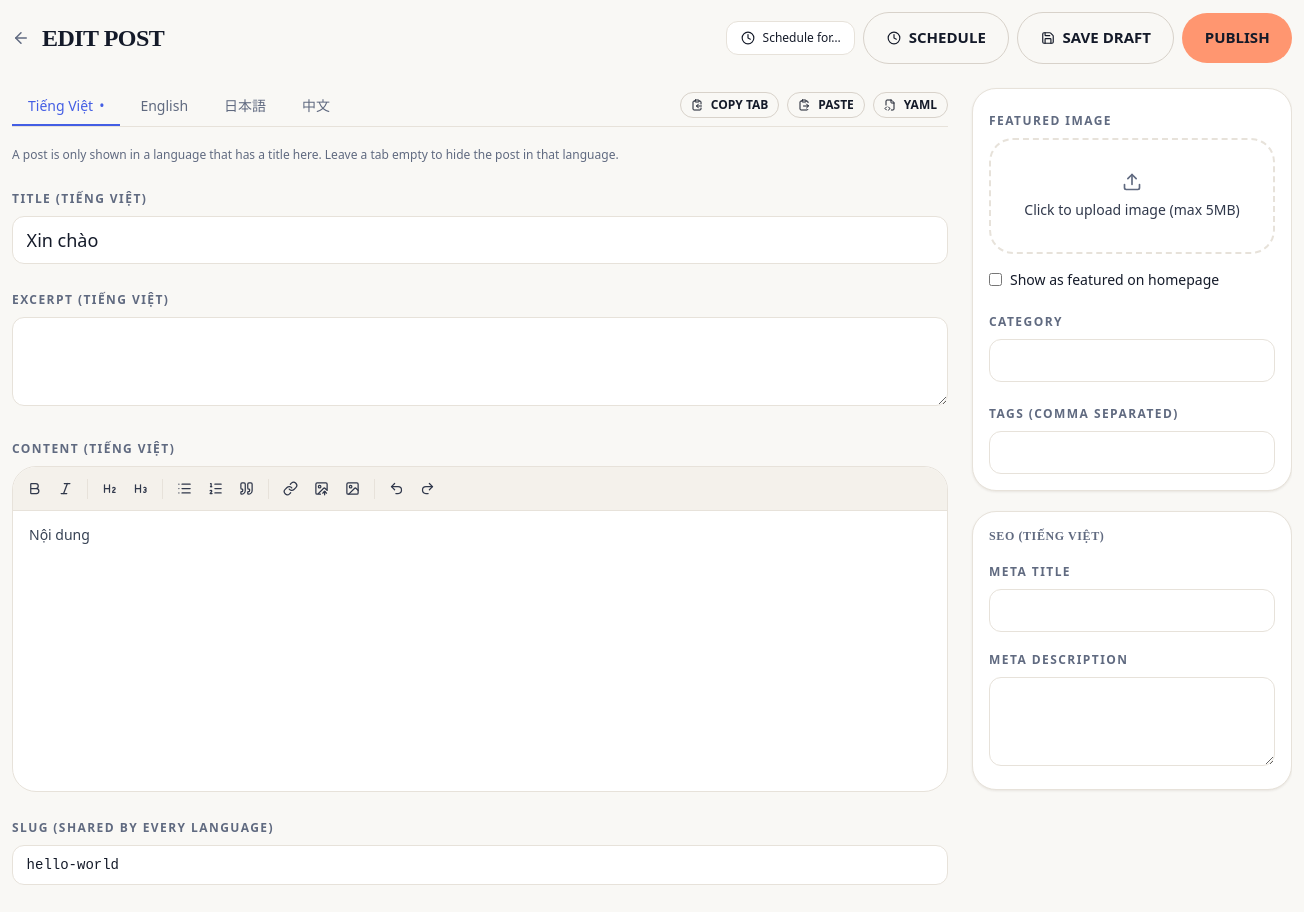
Test: PostEditor scheduling › blocks scheduling without a time and shows an error
The image size is (1304, 912).
Expected: the field labelled "Title (Tiếng Việt)" holds "Xin chào", 12,216 -> 948,264
Click the button "SCHEDULE" at (936, 38), box 863,12 -> 1009,64
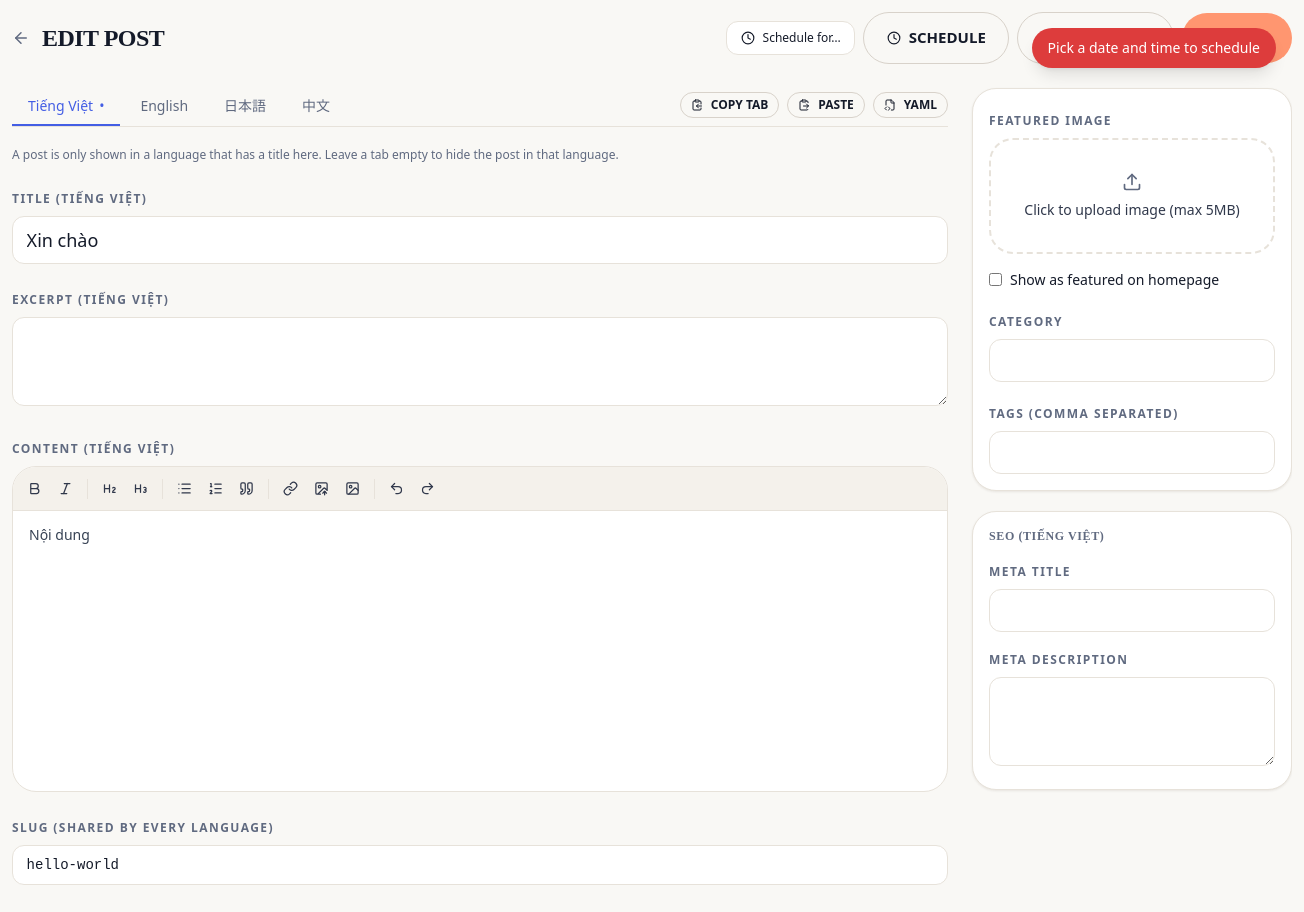
Expected: the text "Pick a date and time to schedule" is shown, 1032,28 -> 1276,68
